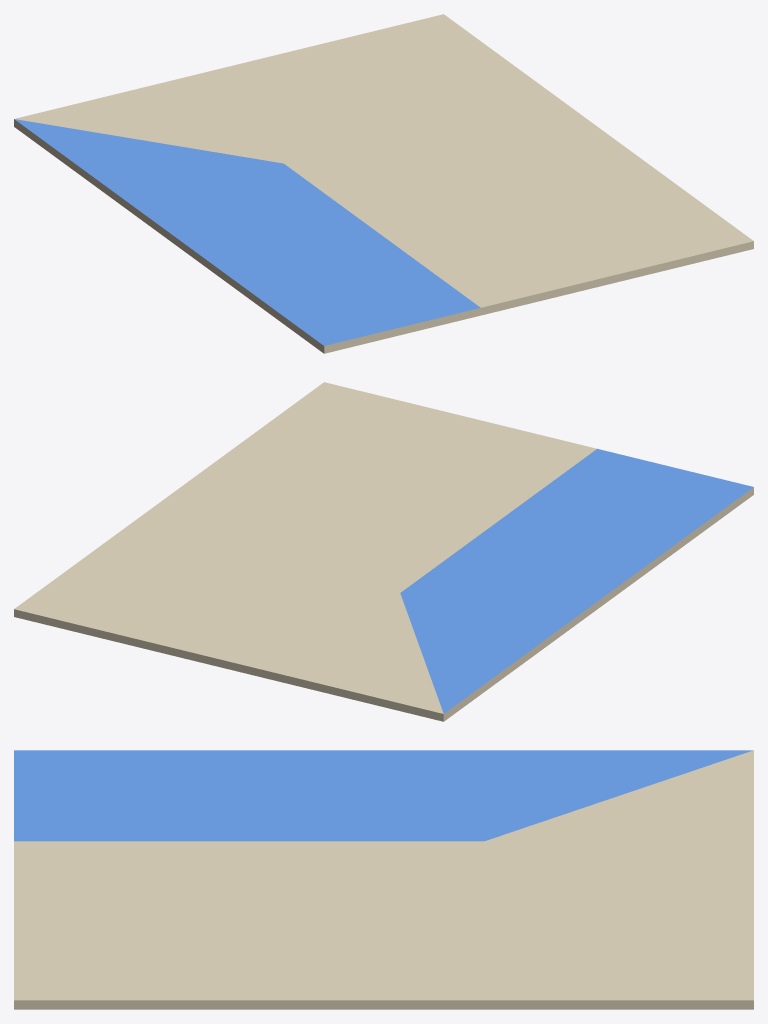
File: meridian_shipyard_foundation.glb
3 renders of one model, top to bottom at view 1: azimuth 30°, elevation 25°; view 2: azimuth 150°, elevation 25°; view 3: azimuth 270°, elevation 25°, orthographic. The views are drawn at different scales.
Visible parts, largest first — view 1: hull; view 2: hull; view 3: hull.
Boxes of the visible parts, bbox=[...] form: hull: bbox=[14, 14, 753, 353]; hull: bbox=[14, 382, 753, 721]; hull: bbox=[14, 750, 753, 1009].
Bounding box in the file's own units: 14.4 × 0.25 × 18.
